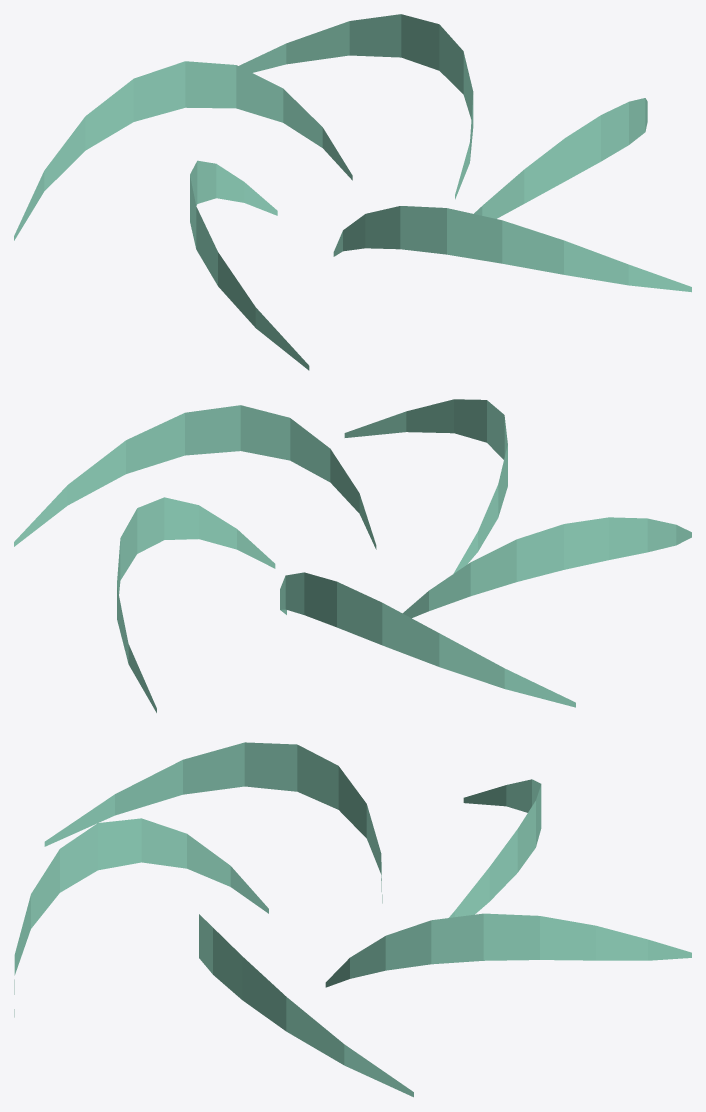
File: Air.fbx
The picture shows the model from 3 angles, top to bottom: view 1: azimuth 30°, elevation 25°; view 2: azimuth 150°, elevation 25°; view 3: azimuth 270°, elevation 25°; orthographic projection. The views are drawn at different scales.
Visible parts, largest first — view 1: Air; view 2: Air; view 3: Air.
Part boxes in pixels (left/top/right/bottom): Air: left=14, top=14, right=691, bottom=370; Air: left=14, top=399, right=691, bottom=712; Air: left=14, top=742, right=691, bottom=1097.
Bounding box in the file's own units: 72.1 × 12 × 70.15.
